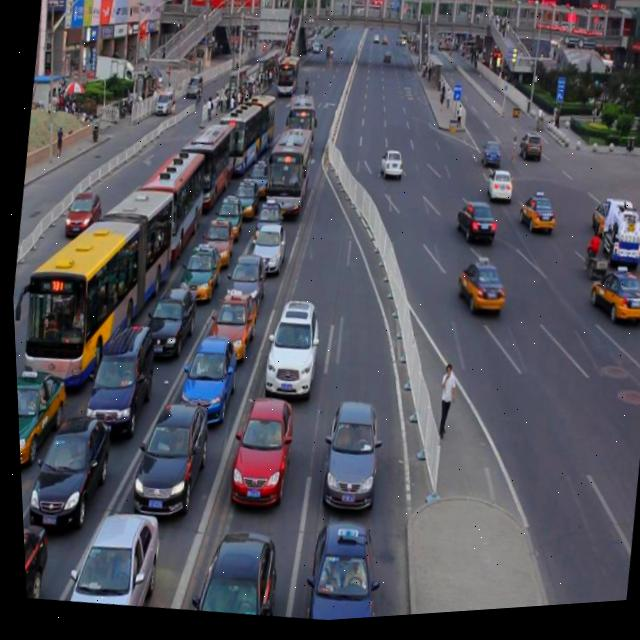bus: (594, 203, 640, 278)
car: (18, 411, 112, 530), (58, 504, 159, 613), (124, 396, 210, 521), (76, 319, 157, 438), (294, 522, 380, 626), (184, 529, 276, 624), (312, 401, 384, 515), (221, 399, 294, 507), (255, 300, 322, 403), (173, 334, 237, 424), (13, 365, 64, 471), (139, 282, 197, 362), (202, 290, 256, 365), (581, 268, 640, 335), (450, 259, 506, 324), (219, 255, 267, 318), (175, 244, 222, 306), (449, 202, 497, 253), (18, 515, 46, 600), (513, 194, 555, 244), (196, 216, 235, 269), (248, 224, 286, 277), (62, 192, 101, 238), (209, 196, 244, 243), (250, 199, 282, 247), (584, 204, 616, 246), (228, 178, 259, 221), (241, 160, 272, 201), (482, 173, 512, 211), (376, 150, 403, 187), (516, 138, 542, 169), (115, 190, 138, 220), (477, 146, 500, 174)
van: (6, 174, 181, 400), (124, 144, 209, 269), (212, 87, 278, 178), (258, 130, 314, 230), (177, 120, 234, 213), (281, 95, 321, 156)
